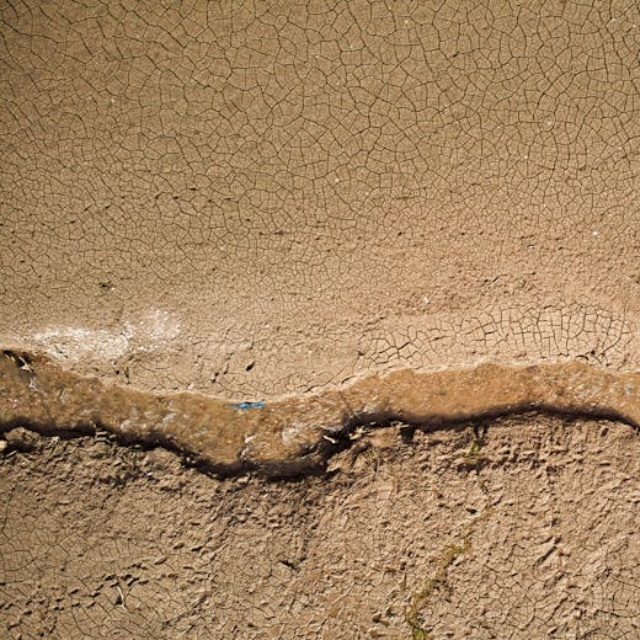细微裂纹: (0, 340, 640, 495), (189, 379, 640, 523)
